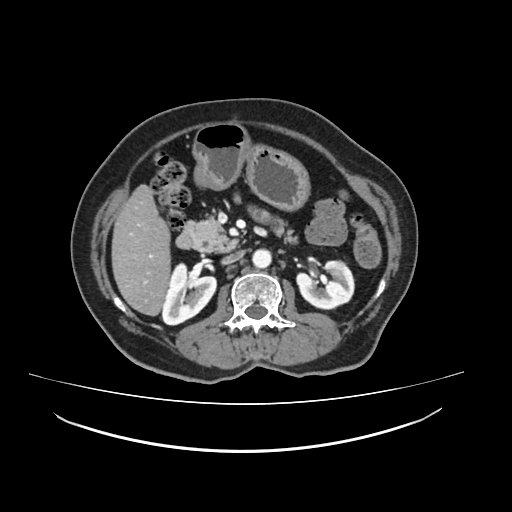aorta: (250, 247, 273, 269)
